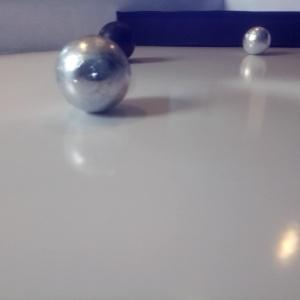zone: (116, 10, 300, 48)
